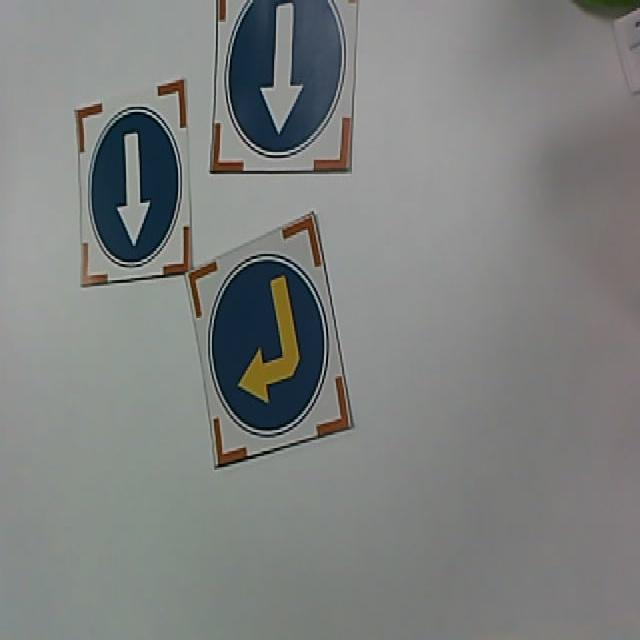straight: (227, 0, 344, 157), (89, 106, 181, 264)
turn: (209, 254, 330, 437)
